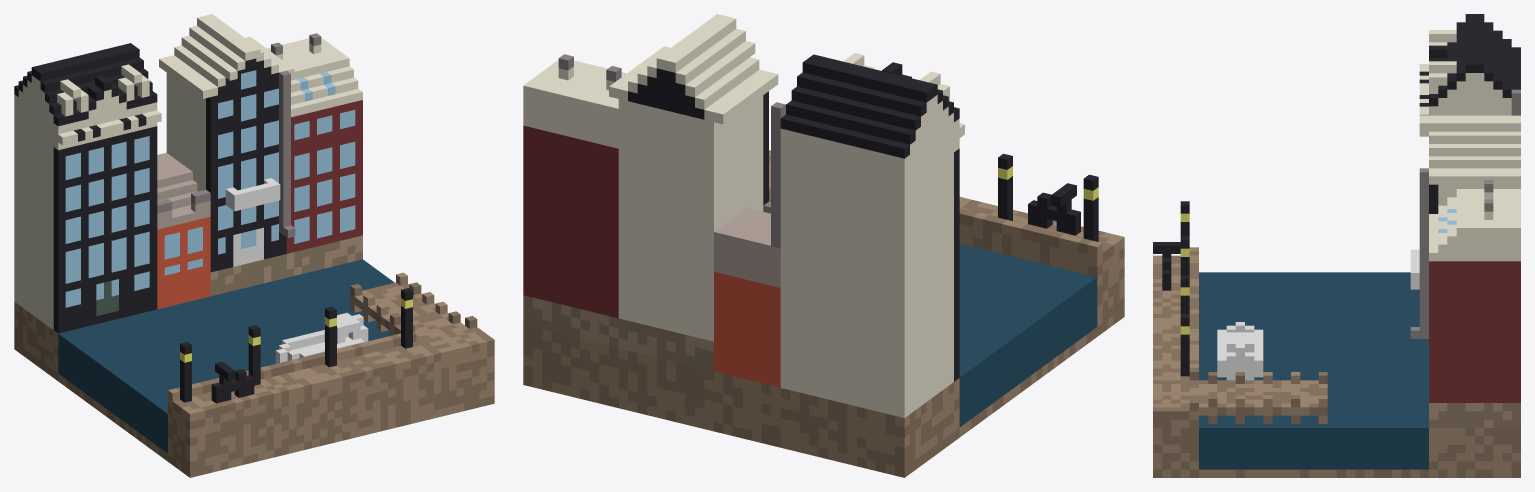
Rendered from minicity.obj.
3 views of the same model, side by side, from view 1: azimuth 30°, elevation 25°; view 2: azimuth 150°, elevation 25°; view 3: azimuth 270°, elevation 25° (orthographic). The views are drawn at different scales.
Size of the model in its own units: 4 by 3.7 by 4.
1 material, 1 textured.
